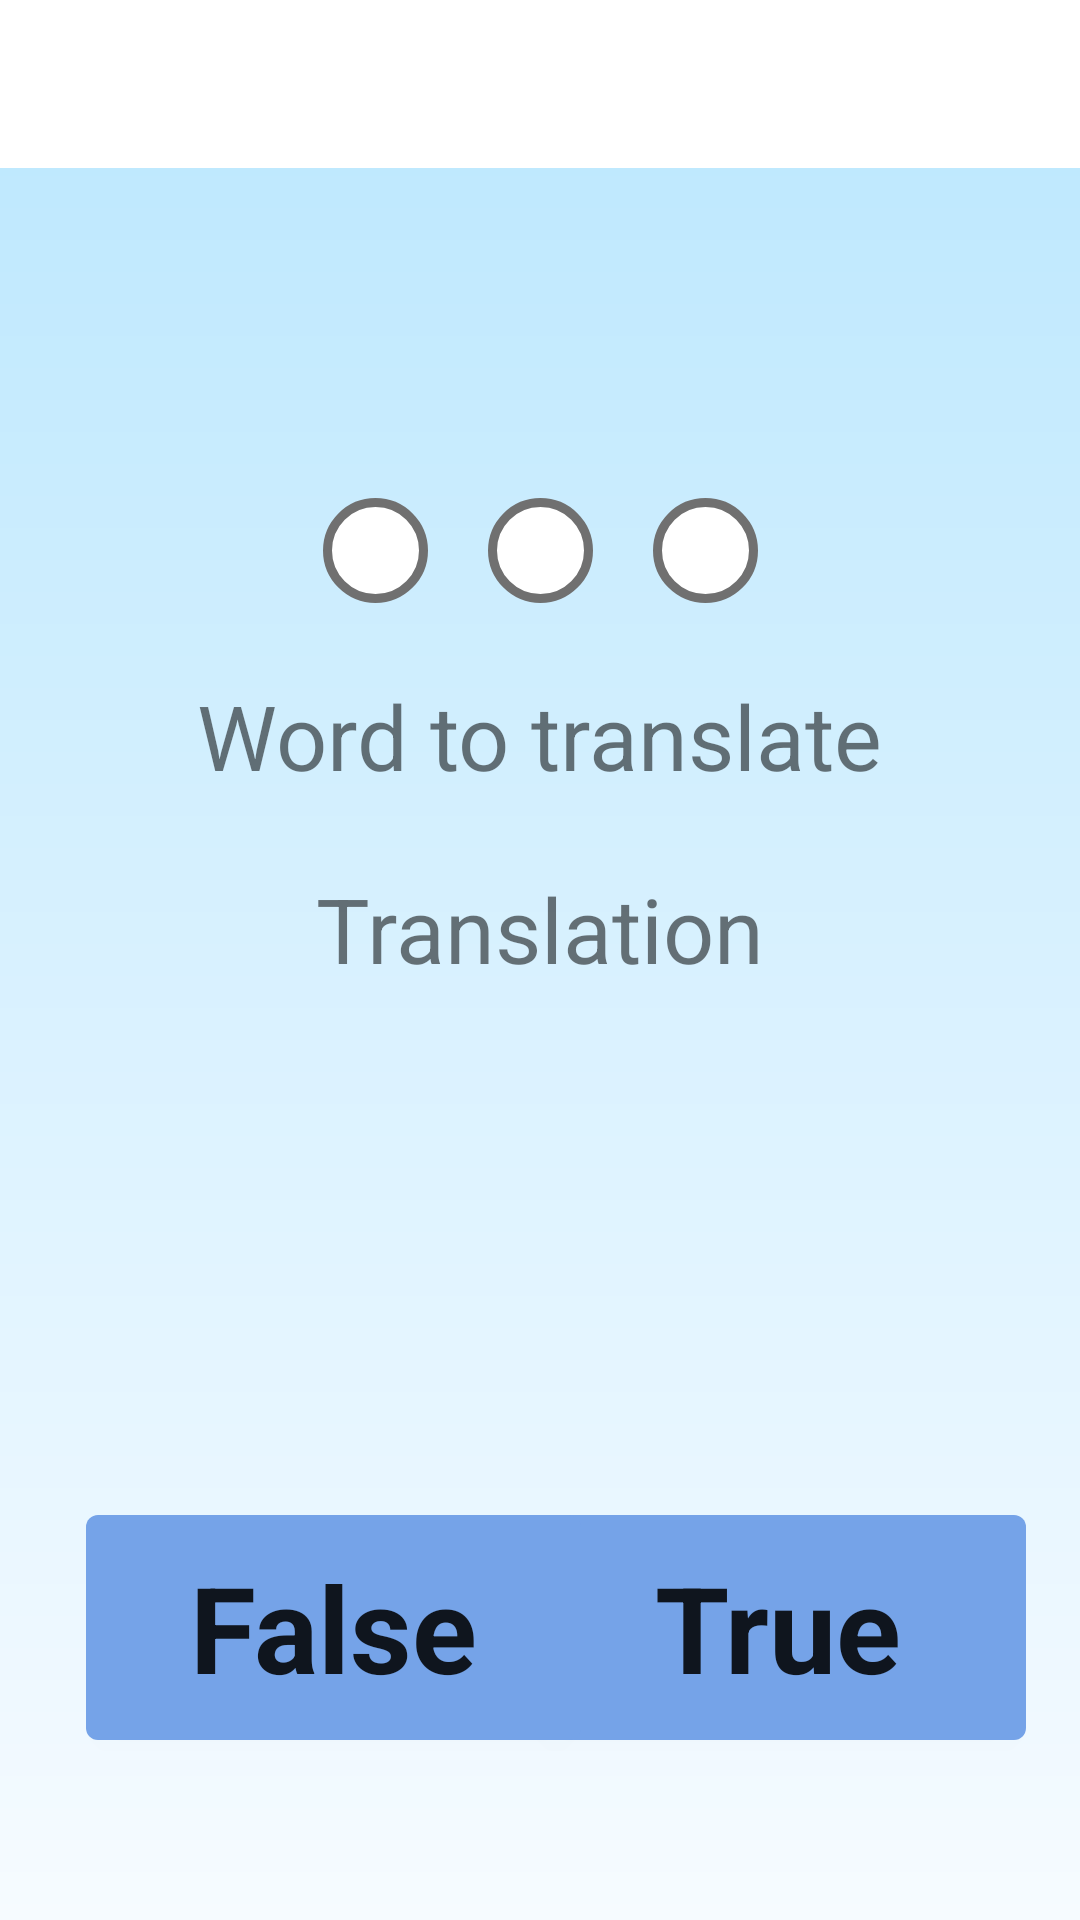

Named icons in this screenshot (1080 × 1920) and their bounding boxes, (x1, y1, x2, y2):
empty circle: (323, 498, 428, 603), (488, 498, 593, 603), (653, 498, 758, 603)
